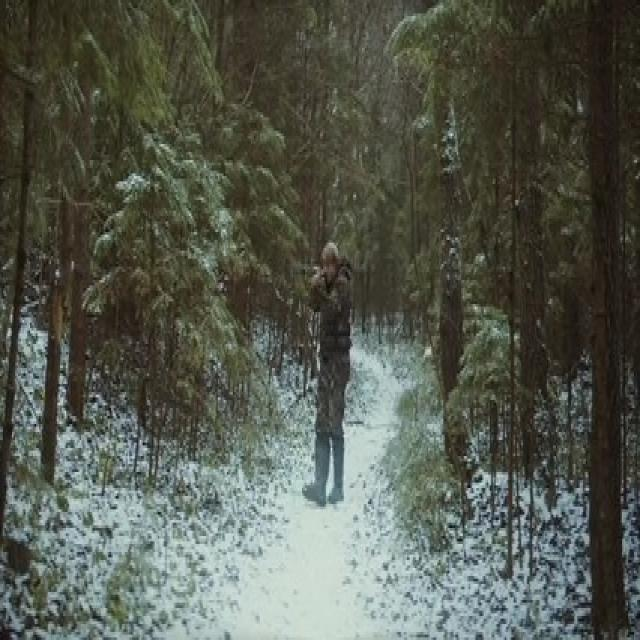Gun_Holder: (288, 264, 330, 291)
Person: (314, 243, 351, 499)
